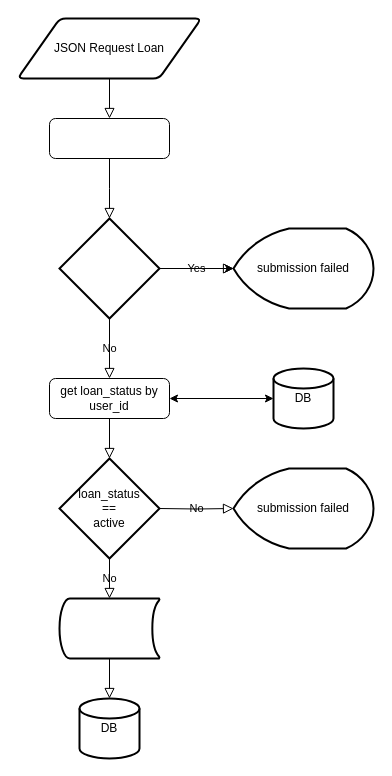
Some shapes in this 392 by 776 pixel diagram are drawn without their labels. The centre of each missing label's shape, as x and y in pixels:
get loan_amount: pixel 109 138
Loan Installment: pixel 109 628
loan_amount > 12000000: pixel 109 268
